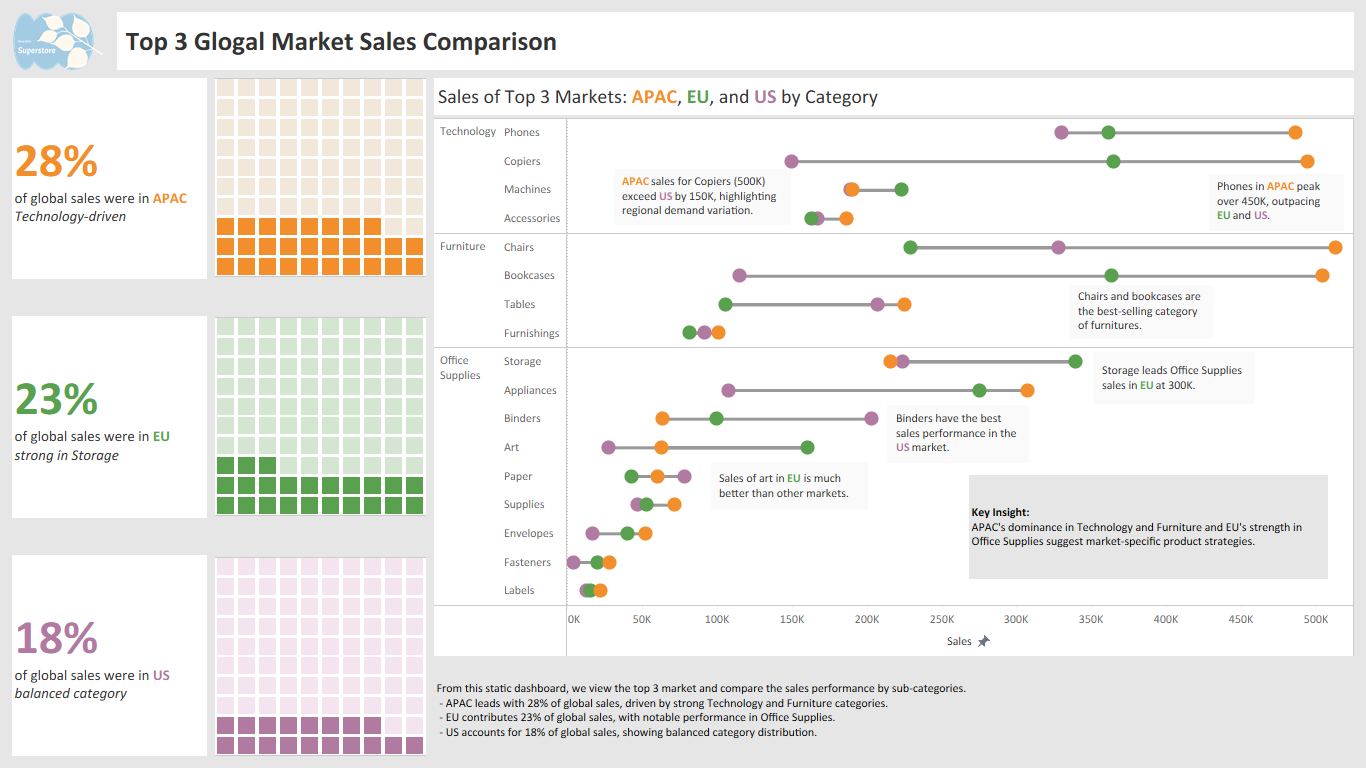

The dashboard page shown, as its layout file describes it:
{"tool":"tableau","page":{"name":"Top 3 Markets","canvas":[1366,768],"ordinal":4},"visuals":[{"type":"image","param":"Image/superstore-high-resolution-logo-transparent.png","box":[8,8,105,66]},{"type":"title","box":[113,8,1245,66]},{"type":"text","box":[8,74,203,208.6]},{"type":"worksheet","title":"APAC Sales Waffle","mark":"Square","rows":["Rows"],"cols":["Columns"],"box":[211,74,219,207.3]},{"type":"worksheet","title":"Dumbbell(Hor)","mark":"Automatic","rows":["Category","Sub-Category"],"cols":["Sales","Sales"],"box":[430,74,928,586.9]},{"type":"blank","box":[211,281.3,219,32.1]},{"type":"blank","box":[8,282.6,203,29.5]},{"type":"text","box":[8,312.1,203,209.6]},{"type":"worksheet","title":"EU Sales Waffle","mark":"Square","rows":["Rows"],"cols":["Columns"],"box":[211,313.4,219,207.3]},{"type":"text","box":[969,475,359,104]},{"type":"blank","box":[211,520.6,219,32.1]},{"type":"blank","box":[8,521.7,203,29.4]},{"type":"text","box":[8,551.1,203,208.9]},{"type":"worksheet","title":"US Sales Waffle","mark":"Square","rows":["Rows"],"cols":["Columns"],"box":[211,552.7,219,207.3]},{"type":"text","box":[430,660.9,928,99]}]}

Visuals, with their boxes in screenshot pixels (x1, y1, x2, y2), scaled from the page's 1366x768 canvas onto the 1366x768 screenshot:
image: [x1=8, y1=8, x2=113, y2=74]
title: [x1=113, y1=8, x2=1358, y2=74]
text: [x1=8, y1=74, x2=211, y2=283]
"APAC Sales Waffle" worksheet (Square marks): [x1=211, y1=74, x2=430, y2=281]
"Dumbbell(Hor)" worksheet: [x1=430, y1=74, x2=1358, y2=661]
blank: [x1=211, y1=281, x2=430, y2=313]
blank: [x1=8, y1=283, x2=211, y2=312]
text: [x1=8, y1=312, x2=211, y2=522]
"EU Sales Waffle" worksheet (Square marks): [x1=211, y1=313, x2=430, y2=521]
text: [x1=969, y1=475, x2=1328, y2=579]
blank: [x1=211, y1=521, x2=430, y2=553]
blank: [x1=8, y1=522, x2=211, y2=551]
text: [x1=8, y1=551, x2=211, y2=760]
"US Sales Waffle" worksheet (Square marks): [x1=211, y1=553, x2=430, y2=760]
text: [x1=430, y1=661, x2=1358, y2=760]
